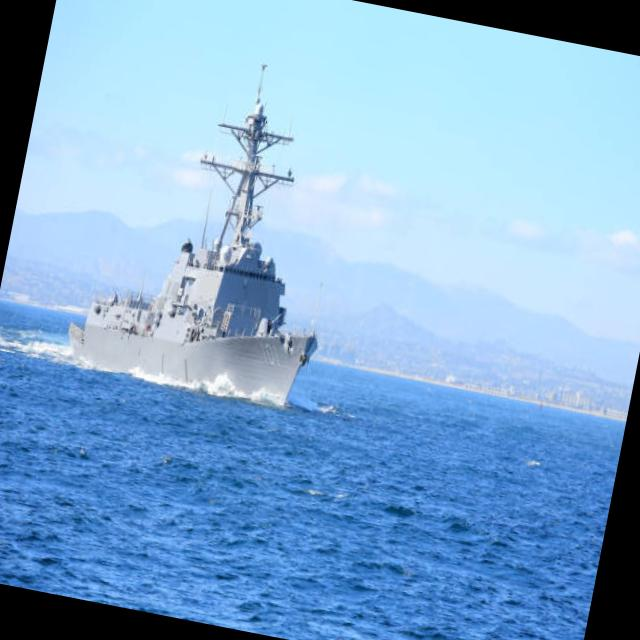Military: (67, 65, 317, 410)
